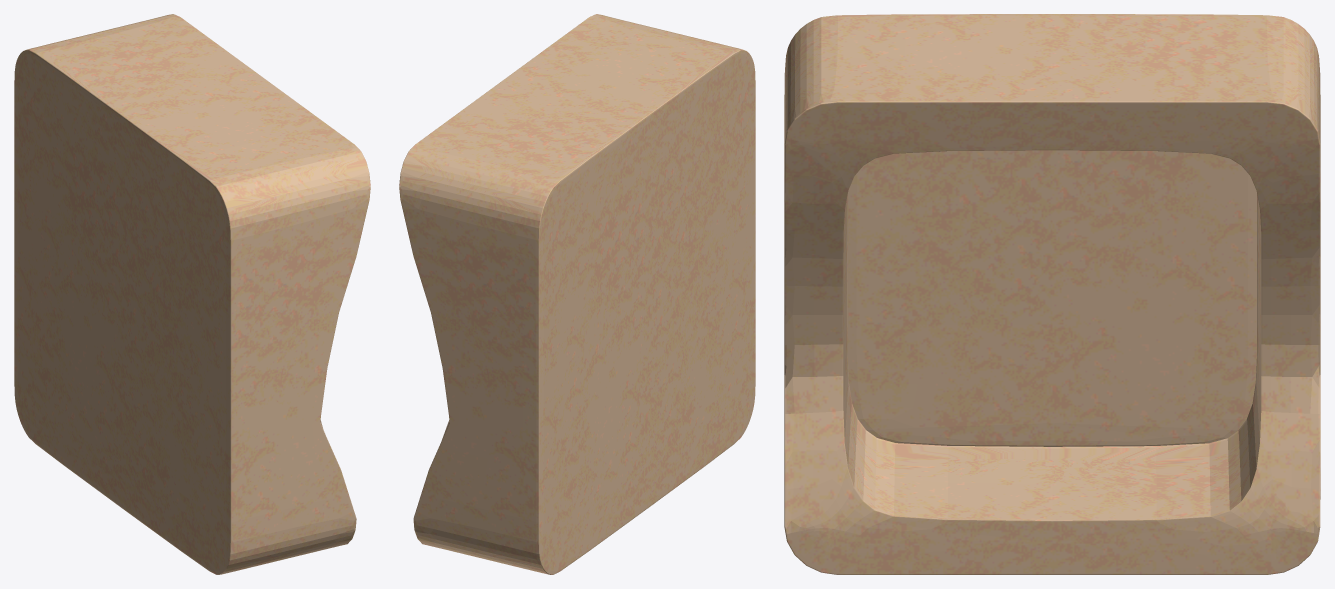
File: jabonera_Ducha.fbx
3 renders of one model, left to right at view 1: azimuth 30°, elevation 25°; view 2: azimuth 150°, elevation 25°; view 3: azimuth 270°, elevation 25°, orthographic. The views are drawn at different scales.
Visible parts, largest first — view 1: janonera_Ducha; view 2: janonera_Ducha; view 3: janonera_Ducha.
Boxes of the visible parts, x1=… form: janonera_Ducha: x1=14, y1=14, x2=370, y2=574; janonera_Ducha: x1=399, y1=14, x2=755, y2=574; janonera_Ducha: x1=784, y1=14, x2=1320, y2=574.
Bounding box in the file's own units: 5.81 × 14.99 × 15.
